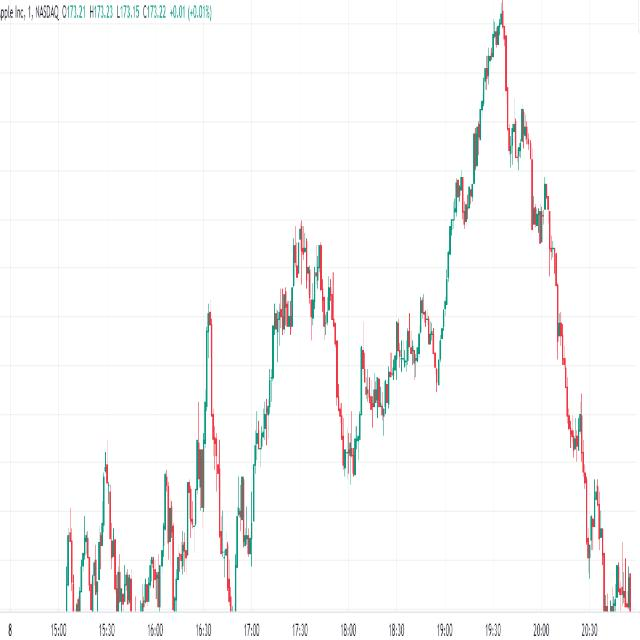Rising-Wedge: (327, 294, 438, 517)
Rounding-Top: (266, 215, 344, 390)
